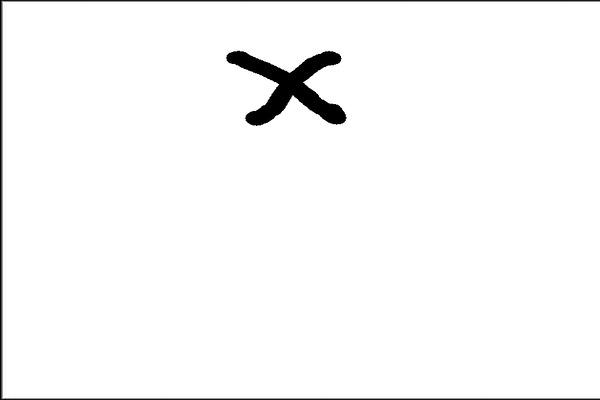X: (205, 32, 372, 175)
